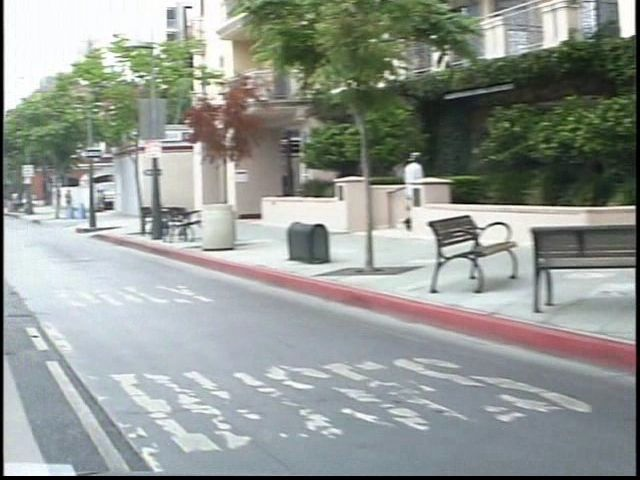person: (378, 146, 417, 186), (47, 182, 65, 216)
